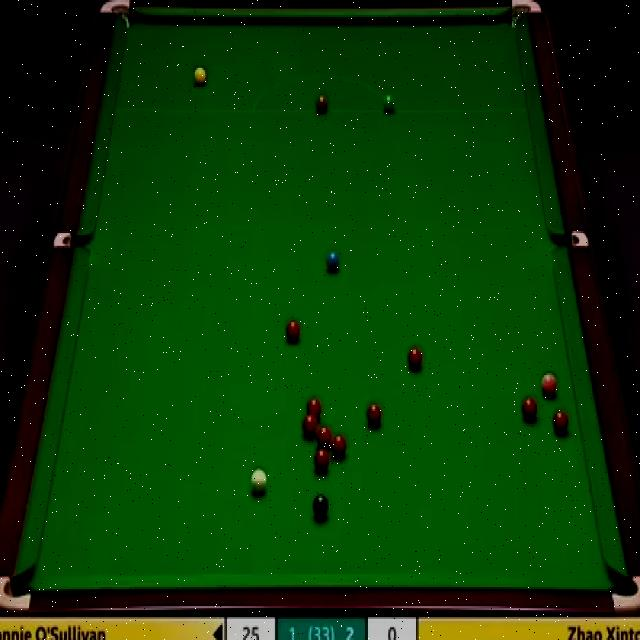black-ball: (312, 494, 329, 520)
blue-ball: (325, 249, 341, 272)
brown-ball: (315, 93, 328, 114)
green-ball: (383, 95, 395, 114)
pink-ball: (541, 371, 557, 398)
red-ball: (366, 402, 383, 427), (331, 435, 348, 460), (523, 397, 540, 422), (285, 321, 301, 344), (554, 411, 570, 434), (314, 449, 328, 474), (408, 347, 422, 371), (316, 428, 334, 446), (305, 398, 322, 415), (302, 414, 317, 431)
white-ball: (250, 469, 268, 495)
yellow-ball: (194, 67, 208, 89)
